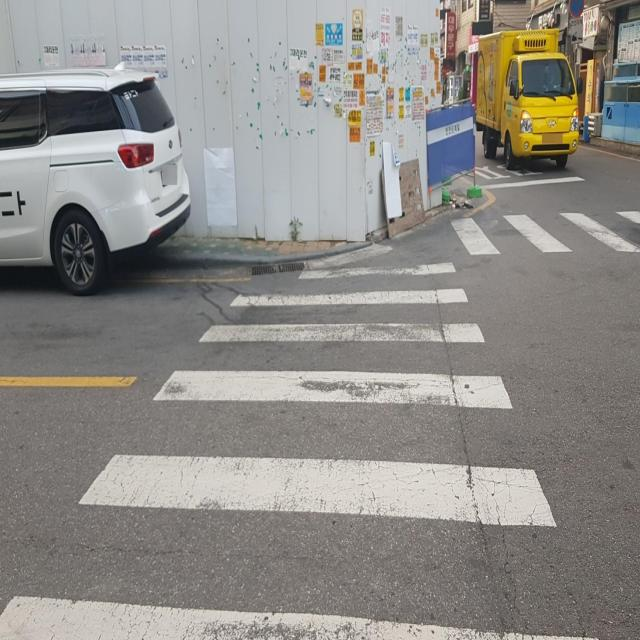횡단보도: (0, 260, 600, 640), (442, 204, 640, 254)
